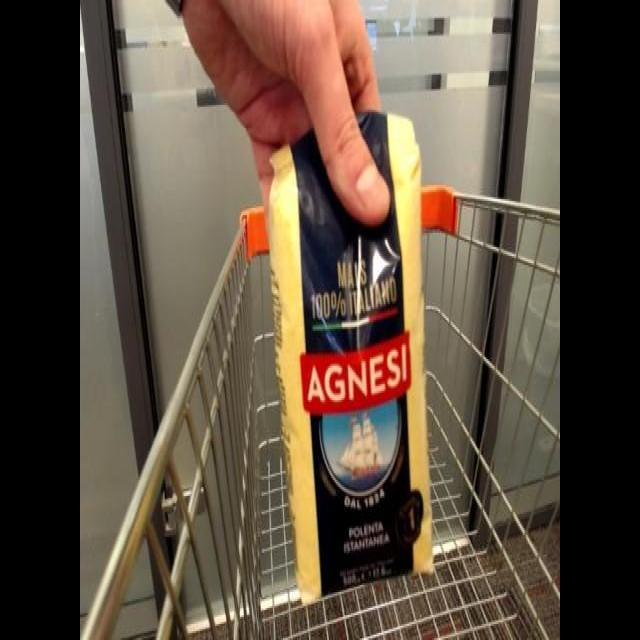Agnesi Polenta: (264, 102, 433, 612)
